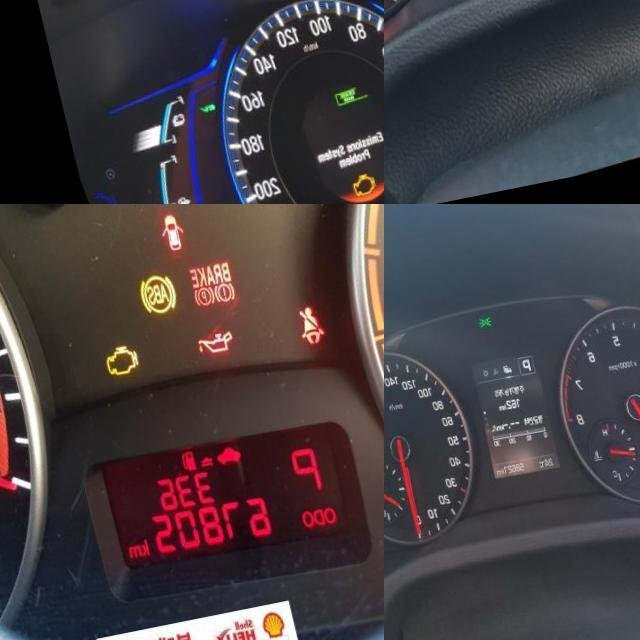Doors: (152, 225, 180, 266)
SideLamp: (465, 326, 480, 340)
